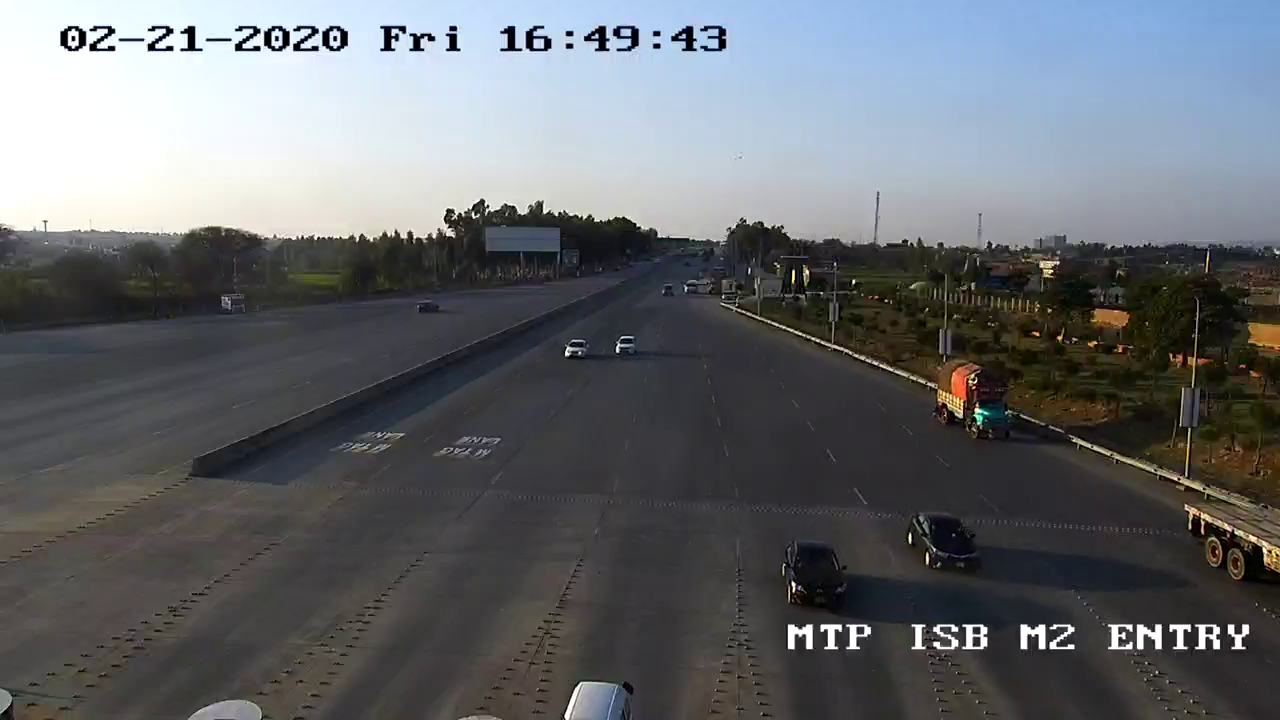f1: (894, 503, 989, 581), (774, 529, 859, 615)
f5: (926, 356, 1019, 449)
